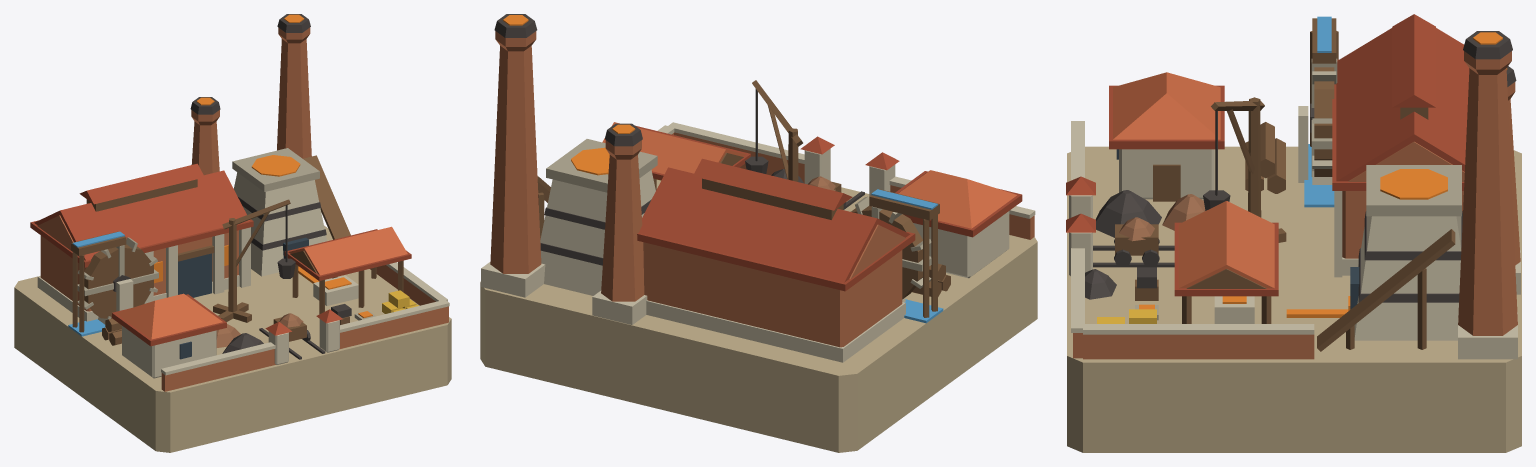
File: ns-manufactory.glb
3 views of the same model, side by side, from view 1: azimuth 30°, elevation 25°; view 2: azimuth 150°, elevation 25°; view 3: azimuth 270°, elevation 25° (orthographic). The views are drawn at different scales.
Parts seen in each view (by area): view 1: GW prism, GW gable, GW solid, GW solid.005, GW gable.002, Tapered form, GW hip, Cube.001, Cube.044, Cube.053, GW gable.001, Cube.056 (+27 smaller); view 2: GW prism, Cube.001, GW gable, GW solid.005, GW solid, GW solid.008, Cube, GW hip, GW gable.001, Cube.044, Cube.002, GW gable.002 (+19 smaller); view 3: GW prism, GW solid.005, GW gable, GW solid, GW gable.002, GW hip, Cube.059, GW gable.001, Cube.044, GW solid.003, Cube.029, Cube.060 (+36 smaller).
Part boxes in pixels (<box>): GW prism: <box>14,225,451,452</box>; GW gable: <box>34,170,249,260</box>; GW solid: <box>234,172,326,276</box>; GW solid.005: <box>277,27,311,158</box>; GW gable.002: <box>288,226,407,275</box>; Tapered form: <box>84,244,153,318</box>; GW hip: <box>116,293,222,339</box>; Cube.001: <box>40,230,238,311</box>; Cube.044: <box>122,326,216,378</box>; Cube.053: <box>161,349,275,391</box>; GW gable.001: <box>79,163,204,204</box>; Cube.056: <box>339,306,448,349</box>; GW prism: <box>480,179,1037,452</box>; Cube.001: <box>643,242,902,347</box>; GW gable: <box>639,167,910,282</box>; GW solid.005: <box>490,31,541,273</box>; GW solid: <box>540,170,655,295</box>; GW solid.008: <box>601,140,644,301</box>; Cube: <box>646,300,905,362</box>; GW hip: <box>898,170,1016,228</box>; GW gable.001: <box>693,158,852,210</box>; Cube.044: <box>913,211,1009,278</box>; Cube.002: <box>637,231,915,291</box>; GW gable.002: <box>602,122,745,174</box>; GW prism: <box>1067,146,1521,452</box>; GW solid.005: <box>1458,51,1517,335</box>; GW gable: <box>1336,28,1469,181</box>; GW solid: <box>1354,216,1461,340</box>; GW gable.002: <box>1178,201,1274,288</box>; GW hip: <box>1113,72,1220,139</box>; Cube.059: <box>1083,334,1314,359</box>; GW gable.001: <box>1392,14,1435,107</box>; Cube.044: <box>1119,149,1214,199</box>; GW solid.003: <box>1366,165,1461,216</box>; Cube.029: <box>1317,229,1455,351</box>; Cube.060: <box>1083,324,1314,334</box>.
Bounding box in the file's own units: 1.28 × 1.1 × 1.14.
